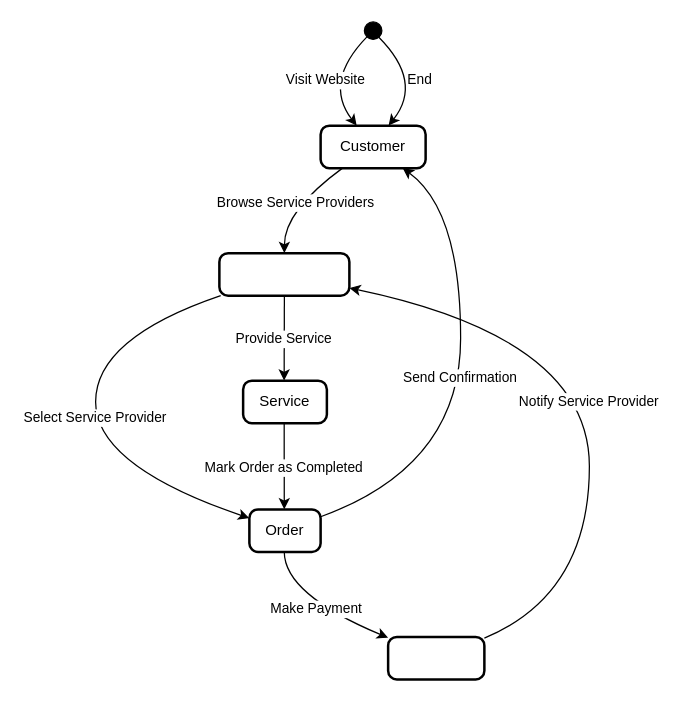
Image size: 683x703. Some labels were removed from this diagram. Here are the shapes that lost their labels. From the top down, the centre of each, then its label:
point (284, 273): Service_Man
point (435, 657): Payment
